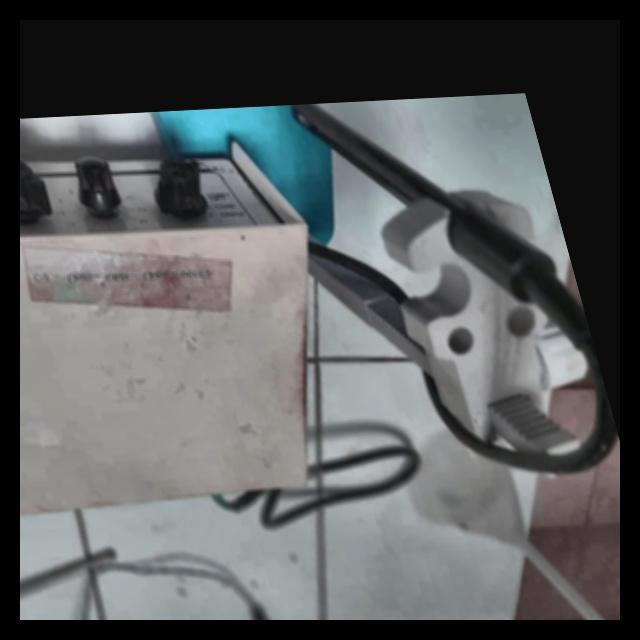Conductivity Meter: (20, 93, 620, 541)
